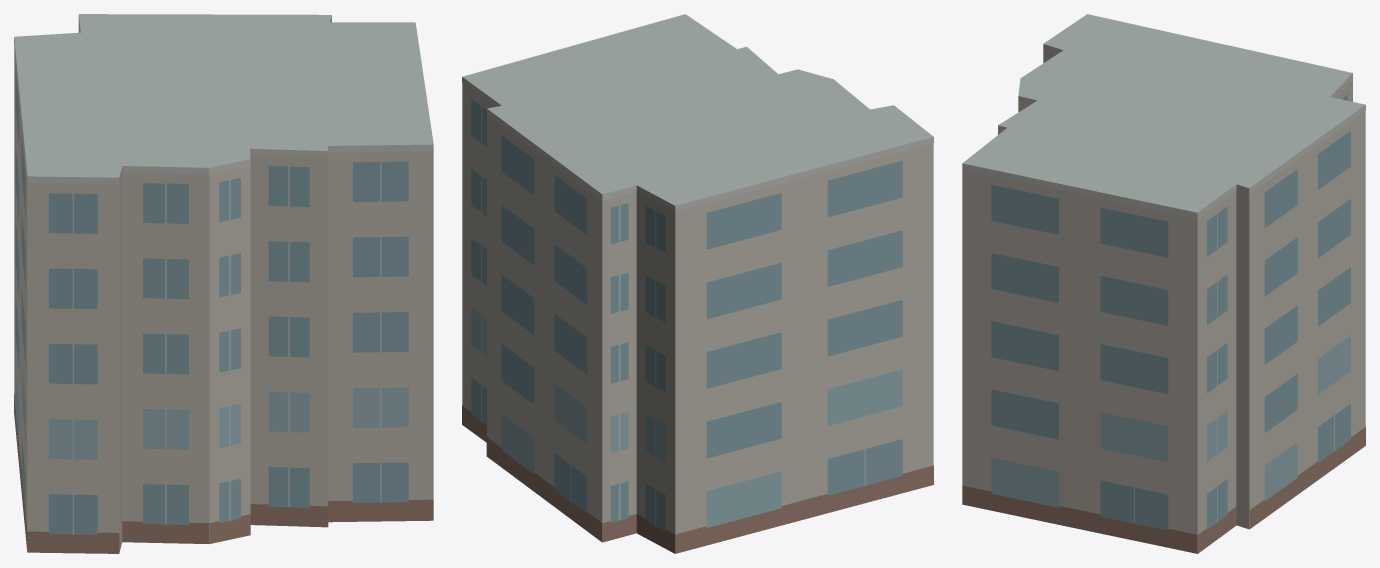
Rendered from survey-upis-32569802.glb.
3 views of the same model, side by side, from view 1: azimuth 30°, elevation 25°; view 2: azimuth 150°, elevation 25°; view 3: azimuth 270°, elevation 25° (orthographic). The views are drawn at different scales.
Parts seen in each view (by area): view 1: survey-upis-32569802.tmp; view 2: survey-upis-32569802.tmp; view 3: survey-upis-32569802.tmp.
Boxes of the visible parts, x1,y1,x2,y2 form: survey-upis-32569802.tmp: [14, 14, 433, 553]; survey-upis-32569802.tmp: [462, 14, 933, 553]; survey-upis-32569802.tmp: [962, 14, 1365, 553].
Bounding box in the file's own units: 17.37 × 13.9 × 14.91.
